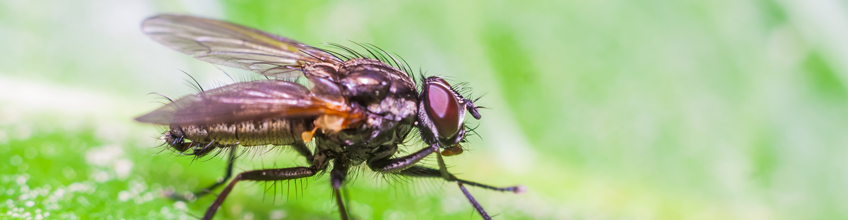fly: (131, 1, 537, 220)
